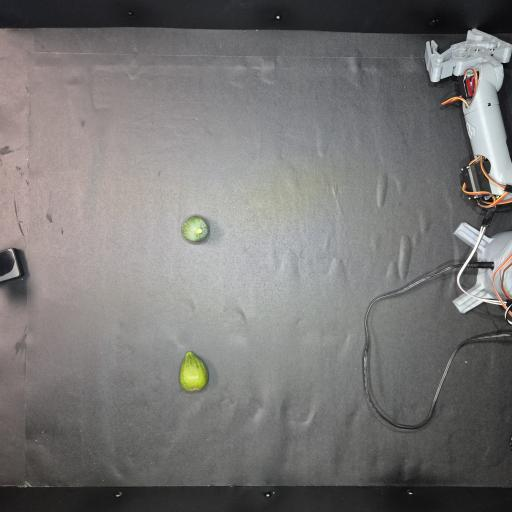higo: (180, 351, 208, 391), (182, 216, 209, 243)
